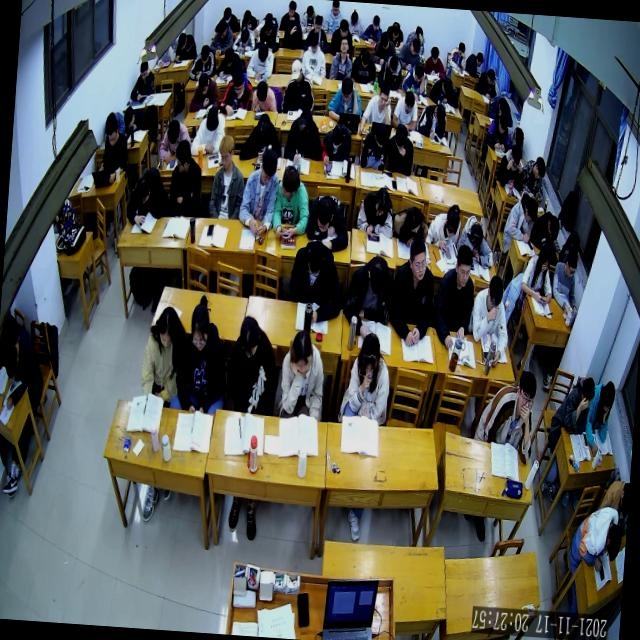bow: (304, 188, 352, 252), (124, 164, 168, 230), (238, 108, 286, 162), (282, 108, 326, 166), (456, 209, 496, 267), (391, 203, 428, 249), (530, 207, 565, 249), (428, 73, 460, 110), (122, 102, 152, 134), (487, 93, 514, 128), (282, 16, 304, 51), (232, 23, 256, 53)
down: (187, 300, 213, 352), (236, 312, 262, 359), (356, 331, 382, 376), (289, 329, 313, 376), (154, 306, 178, 352), (365, 254, 390, 298), (304, 239, 325, 279), (280, 163, 302, 200), (486, 272, 504, 314), (314, 196, 334, 233), (604, 524, 622, 564), (260, 148, 278, 186), (217, 132, 234, 169), (599, 377, 616, 414), (579, 374, 596, 410), (2, 341, 19, 376), (442, 205, 460, 238), (372, 184, 390, 216), (134, 176, 152, 207), (468, 220, 484, 254), (104, 116, 120, 148), (405, 204, 422, 234), (330, 120, 345, 150), (166, 116, 182, 144), (292, 116, 308, 144), (339, 74, 354, 103), (231, 67, 246, 96), (205, 104, 220, 133), (393, 121, 408, 150), (537, 244, 552, 273), (523, 196, 538, 225), (564, 246, 578, 276), (372, 122, 388, 148), (545, 214, 560, 241), (257, 120, 273, 145), (197, 70, 211, 96), (532, 156, 546, 182), (289, 58, 303, 83), (254, 80, 268, 105), (508, 142, 522, 167), (432, 103, 447, 126), (403, 89, 416, 115), (378, 82, 390, 109), (122, 105, 135, 128), (256, 43, 270, 64), (308, 31, 320, 55), (412, 62, 425, 84), (282, 22, 295, 43), (496, 94, 509, 115), (513, 126, 525, 148), (222, 46, 235, 66), (336, 18, 349, 38), (409, 36, 422, 56), (378, 28, 389, 51), (312, 13, 324, 34), (359, 47, 371, 68), (496, 112, 508, 133), (484, 65, 496, 86), (175, 31, 187, 51), (199, 43, 211, 63), (238, 28, 250, 48), (440, 76, 452, 96), (216, 17, 227, 38), (138, 59, 148, 82), (430, 44, 440, 66), (262, 15, 272, 36), (348, 7, 358, 27), (388, 54, 398, 74), (390, 20, 400, 40), (456, 38, 466, 58), (222, 3, 232, 22), (286, 0, 296, 19), (474, 50, 484, 69), (304, 1, 314, 19), (242, 6, 252, 23), (372, 14, 381, 32), (330, 1, 340, 14)
lookup: (515, 368, 538, 420), (405, 236, 429, 281), (452, 242, 474, 288), (338, 36, 350, 54)
sit: (173, 296, 229, 414), (472, 366, 538, 466), (386, 232, 440, 350), (222, 311, 280, 418), (340, 246, 398, 344), (285, 235, 346, 326), (338, 328, 394, 424), (431, 240, 478, 350), (277, 324, 329, 419), (138, 302, 186, 404), (466, 272, 512, 368), (236, 144, 282, 238), (0, 324, 47, 411), (568, 502, 624, 573), (205, 132, 247, 222), (164, 137, 207, 220), (270, 160, 312, 242), (548, 372, 596, 442), (582, 374, 617, 456), (500, 188, 540, 250), (518, 242, 556, 306), (96, 114, 130, 184), (424, 199, 465, 256), (354, 182, 396, 237), (279, 57, 317, 116), (188, 103, 227, 160), (326, 74, 367, 128), (549, 243, 581, 312), (358, 80, 394, 139), (156, 116, 192, 168), (218, 68, 254, 119), (358, 119, 392, 170), (384, 121, 416, 175), (320, 116, 354, 166), (188, 68, 220, 114), (517, 154, 547, 202), (414, 100, 448, 142), (299, 28, 328, 76), (495, 142, 524, 190), (484, 108, 514, 154), (244, 41, 276, 82), (128, 56, 156, 102), (187, 39, 218, 80), (392, 86, 419, 132), (400, 60, 430, 100), (302, 14, 331, 54), (328, 36, 354, 80), (329, 14, 355, 58), (376, 52, 404, 92), (249, 77, 279, 114), (349, 46, 378, 84), (369, 28, 397, 66), (208, 18, 234, 56), (396, 34, 422, 72), (214, 43, 242, 78), (255, 15, 281, 52), (473, 62, 498, 100), (422, 43, 448, 77), (214, 4, 242, 35), (172, 31, 198, 64), (358, 12, 384, 44), (277, 0, 301, 33), (448, 36, 468, 73), (322, 0, 342, 36), (384, 16, 405, 49), (464, 46, 485, 76), (346, 6, 366, 36), (300, 2, 318, 35), (506, 122, 524, 152), (240, 8, 258, 32)
